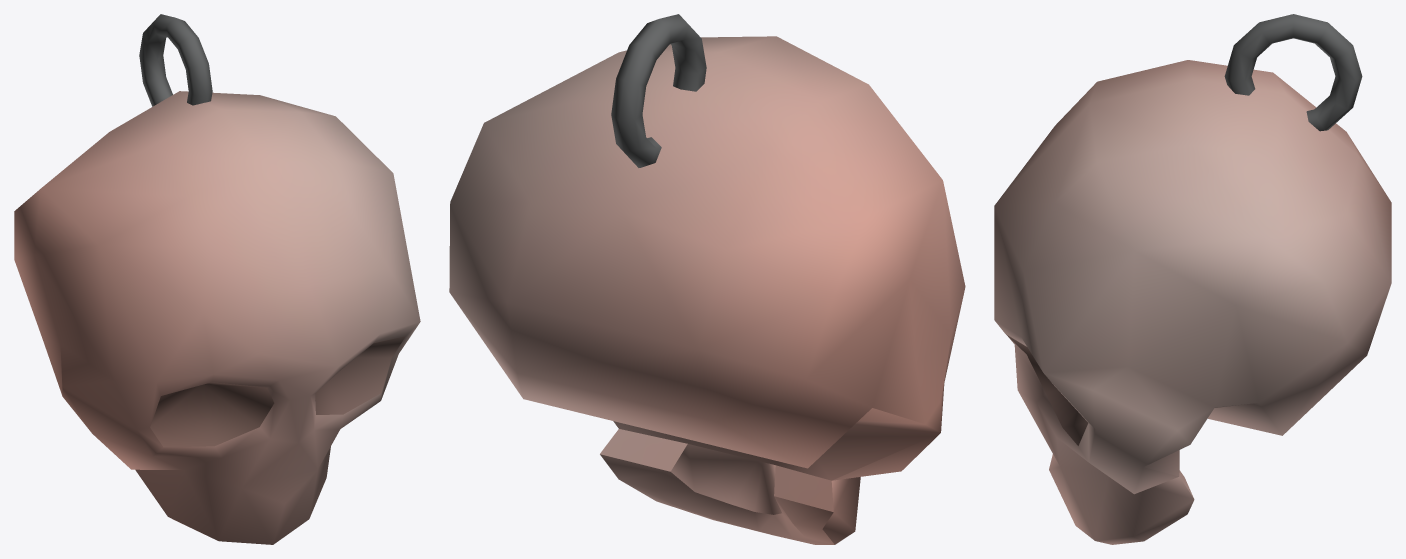
Rendered from Charm_10.fbx.
3 views of the same model, side by side, from view 1: azimuth 30°, elevation 25°; view 2: azimuth 150°, elevation 25°; view 3: azimuth 270°, elevation 25° (orthographic). The views are drawn at different scales.
Parts seen in each view (by area): view 1: Charm_10; view 2: Charm_10; view 3: Charm_10.
Part boxes in pixels (x1,y1,x2,y2): Charm_10: (14,14,420,544); Charm_10: (449,14,965,544); Charm_10: (994,14,1391,544).
Bounding box in the file's own units: 3.96 × 5.23 × 3.63.
